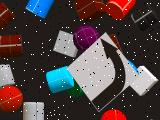Left: (66, 32, 140, 112)
